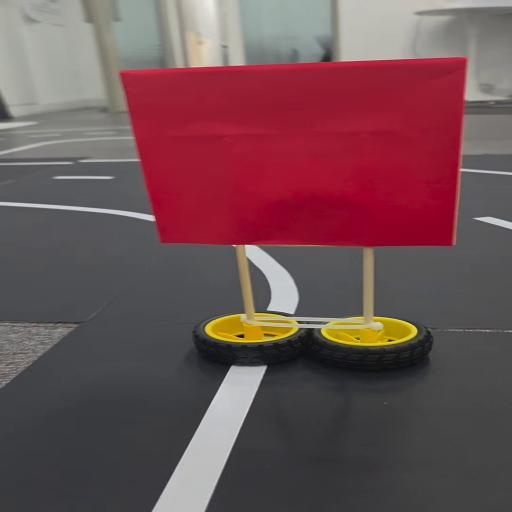Sign_A: (110, 59, 474, 370)
